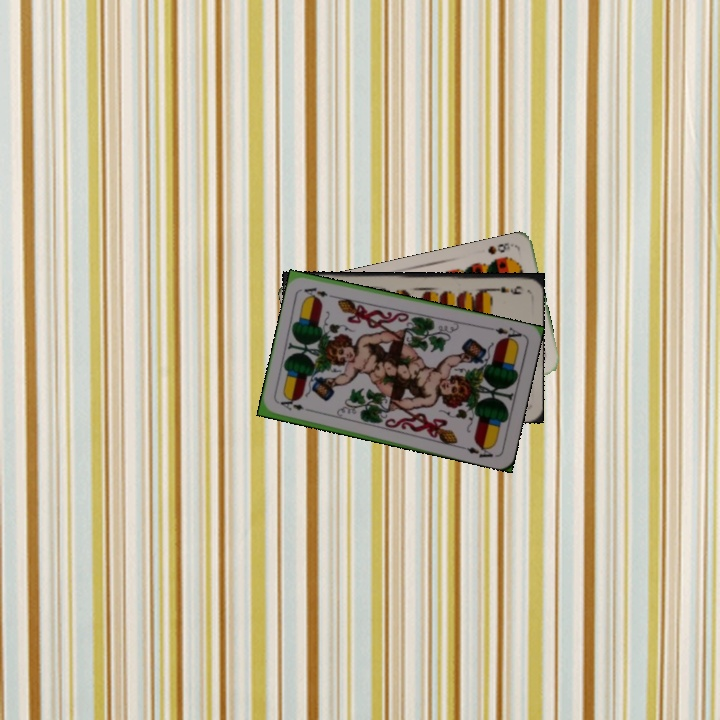E9: (487, 282, 526, 296)
EA: (485, 323, 526, 345), (276, 397, 315, 414)
S8: (483, 239, 518, 257)
